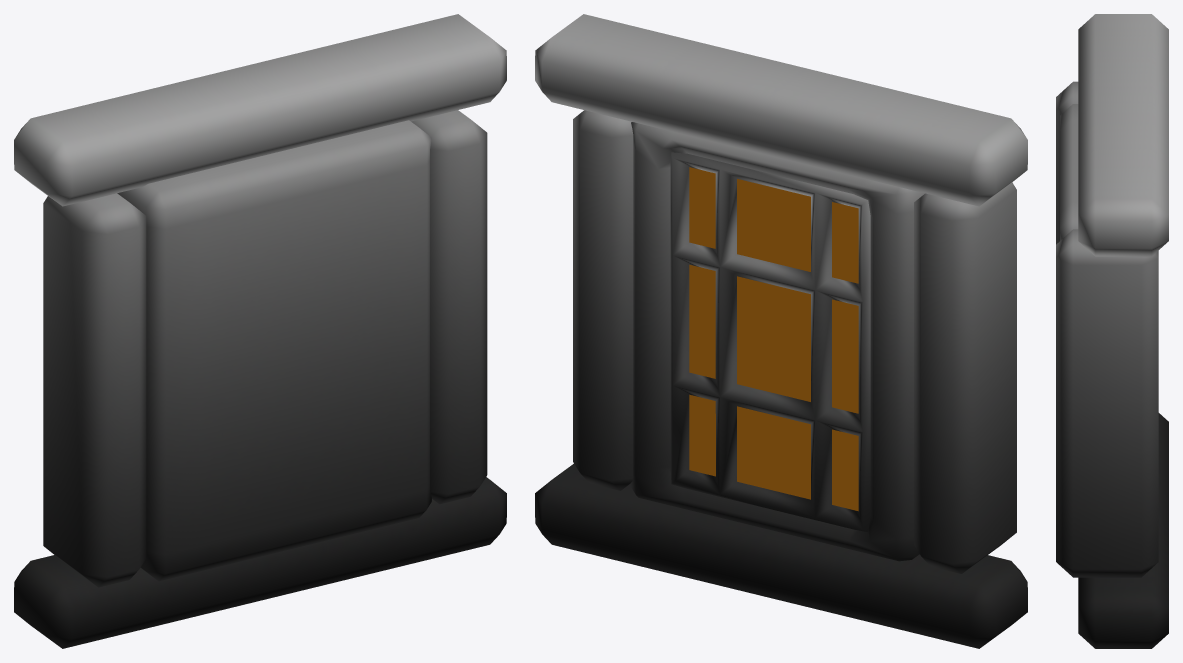
The model's file is SM_Stone_Window_06.fbx.
3 renders of one model, left to right at view 1: azimuth 30°, elevation 25°; view 2: azimuth 150°, elevation 25°; view 3: azimuth 270°, elevation 25°, orthographic. The views are drawn at different scales.
Parts seen in each view (by area): view 1: SM_Stone_Window_06; view 2: SM_Stone_Window_06; view 3: SM_Stone_Window_06.
Part boxes in pixels (left/top/right/bottom): SM_Stone_Window_06: left=14, top=14, right=506, bottom=648; SM_Stone_Window_06: left=535, top=14, right=1027, bottom=648; SM_Stone_Window_06: left=1056, top=14, right=1168, bottom=648.
Size of the model in its own units: 0.4009 by 0.4217 by 0.0958.
